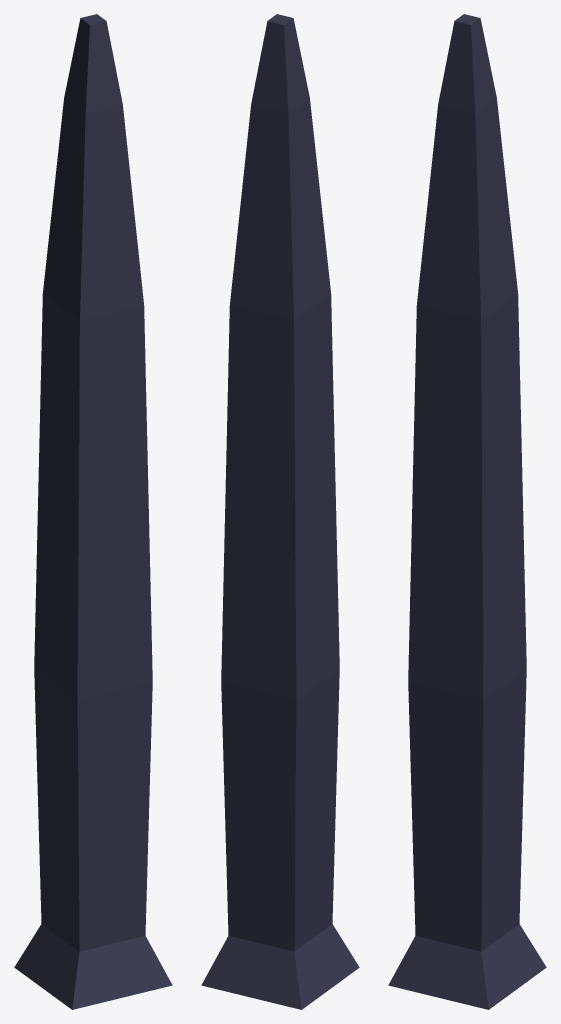
Rendered from Burned_Palmtree.fbx.
3 renders of one model, left to right at view 1: azimuth 30°, elevation 25°; view 2: azimuth 150°, elevation 25°; view 3: azimuth 330°, elevation 25°, orthographic.
Parts seen in each view (by area): view 1: Cube.033; view 2: Cube.033; view 3: Cube.033.
Boxes of the visible parts, box(x1,y1,x2,y2) form: Cube.033: box(14, 14, 172, 1009); Cube.033: box(201, 14, 359, 1009); Cube.033: box(388, 14, 546, 1009).
Size of the model in its own units: 181 by 1651 by 181.
